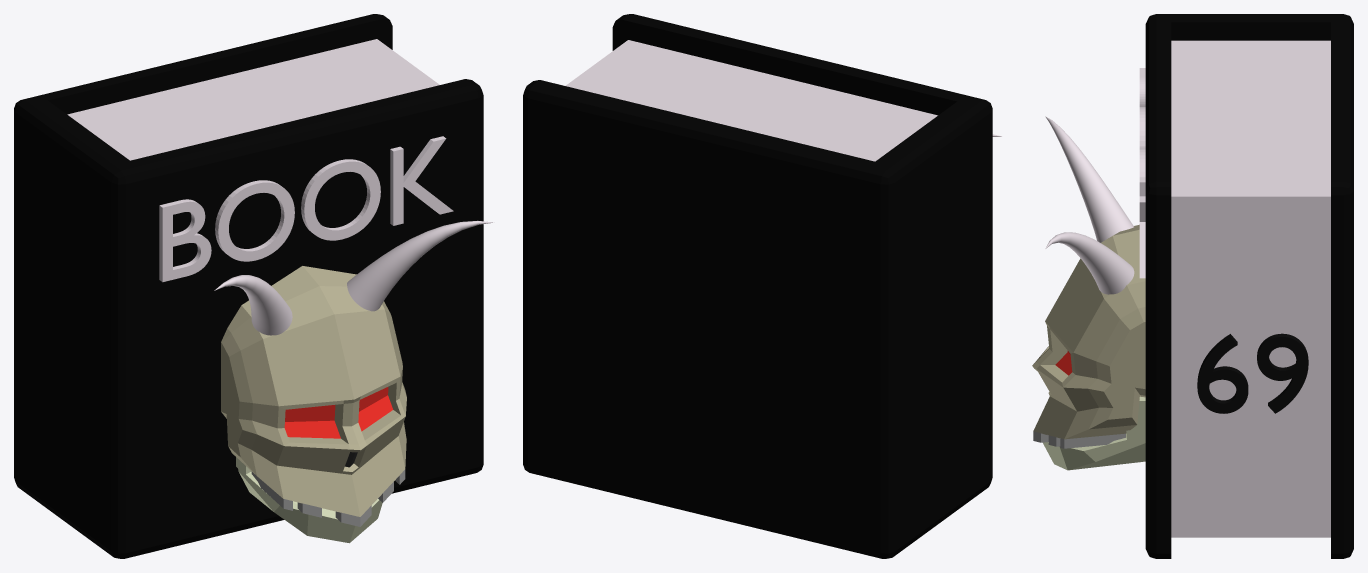
The model's file is BookEVIL.fbx.
3 renders of one model, left to right at view 1: azimuth 30°, elevation 25°; view 2: azimuth 150°, elevation 25°; view 3: azimuth 270°, elevation 25°, orthographic. The views are drawn at different scales.
Parts seen in each view (by area): view 1: Text; view 2: Text; view 3: Text.
Part boxes in pixels (x1,y1,x2,y2): Text: (14, 14, 494, 558); Text: (523, 14, 1002, 558); Text: (1032, 14, 1353, 558).
Bounding box in the file's own units: 181 × 181 × 140.
